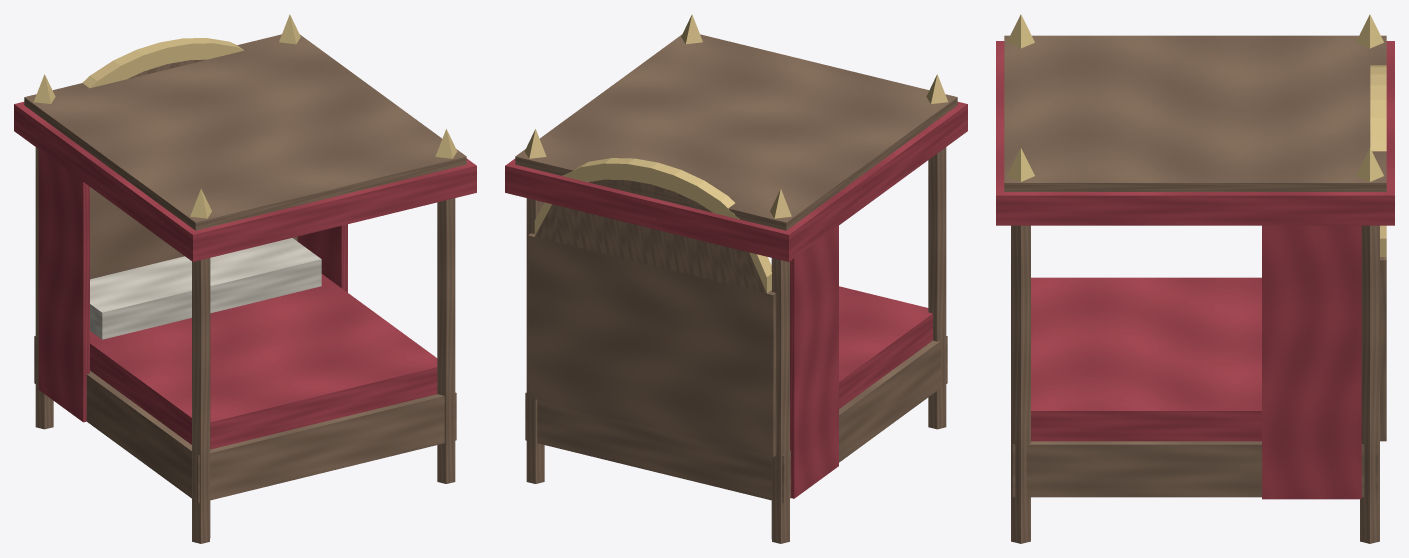
File: vampire-crypt-and-gothic-cathedral-ornate-bed-38c8d43d__23028.glb
3 views of the same model, side by side, from view 1: azimuth 30°, elevation 25°; view 2: azimuth 150°, elevation 25°; view 3: azimuth 270°, elevation 25° (orthographic). The views are drawn at different scales.
Parts seen in each view (by area): view 1: ornate-bed; view 2: ornate-bed; view 3: ornate-bed.
Part boxes in pixels (x1,y1,x2,y2): ornate-bed: (14, 14, 476, 543); ornate-bed: (505, 14, 967, 543); ornate-bed: (996, 14, 1394, 543).
Size of the model in its own units: 2.2 by 2.6 by 2.4.
Materials: 4 (3 with a texture image).
